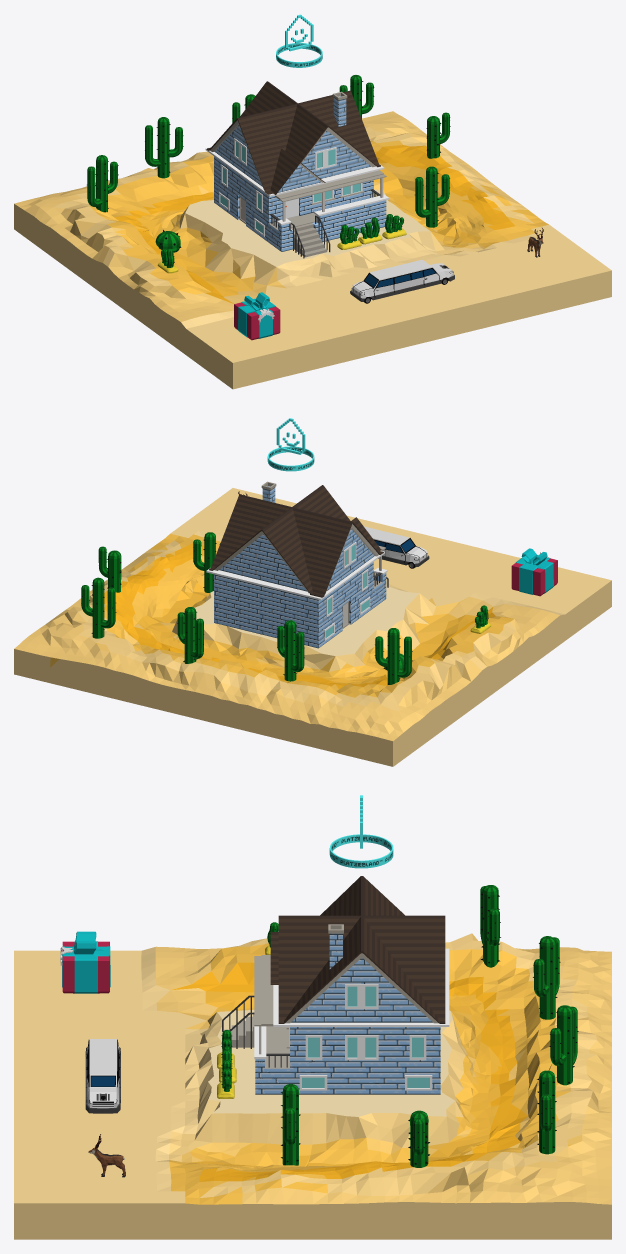
3 views of the same model, one above another, from view 1: azimuth 30°, elevation 25°; view 2: azimuth 150°, elevation 25°; view 3: azimuth 270°, elevation 25° (orthographic). The views are drawn at different scales.
Parts seen in each view (by area): view 1: Cube.001, Cube.547, VEHICLES_LIMOUSINE, OBJRANDOM_GIANT_PRESENT, Cylinder.044, Cylinder.037, Cylinder.045, TYPE_PREMIUM, Cylinder.038, Cylinder.042; view 2: Cube.001, Cube.547, OBJRANDOM_GIANT_PRESENT, Cylinder.042, VEHICLES_LIMOUSINE, Cylinder.045, Cylinder.044, Cylinder.043, TYPE_PREMIUM, Cylinder.037, Cylinder.038; view 3: Cube.001, Cube.547, OBJRANDOM_GIANT_PRESENT, VEHICLES_LIMOUSINE, Cylinder.044, Cylinder.043, Cylinder.045, Cylinder.042, Cylinder.037, TYPE_PREMIUM, Cylinder.038.
Part boxes in pixels (x1,y1,x2,y2): Cube.001: [14, 111, 611, 389]; Cube.547: [205, 81, 388, 258]; VEHICLES_LIMOUSINE: [350, 259, 454, 303]; OBJRANDOM_GIANT_PRESENT: [234, 292, 280, 340]; Cylinder.044: [145, 117, 183, 178]; Cylinder.037: [415, 166, 449, 227]; Cylinder.045: [87, 155, 118, 212]; TYPE_PREMIUM: [276, 14, 322, 67]; Cylinder.038: [426, 112, 450, 158]; Cylinder.042: [339, 75, 374, 118]; Cube.001: [14, 488, 611, 766]; Cube.547: [206, 481, 388, 648]; OBJRANDOM_GIANT_PRESENT: [511, 548, 557, 596]; Cylinder.042: [81, 577, 116, 638]; VEHICLES_LIMOUSINE: [364, 526, 429, 568]; Cylinder.045: [374, 628, 412, 684]; Cylinder.044: [277, 620, 304, 681]; Cylinder.043: [177, 607, 203, 663]; TYPE_PREMIUM: [267, 418, 314, 471]; Cylinder.037: [193, 532, 220, 592]; Cylinder.038: [98, 546, 121, 592]; Cube.001: [14, 933, 611, 1239]; Cube.547: [222, 876, 449, 1094]; OBJRANDOM_GIANT_PRESENT: [60, 931, 110, 993]; VEHICLES_LIMOUSINE: [85, 1039, 120, 1113]; Cylinder.044: [533, 936, 560, 1019]; Cylinder.043: [549, 1005, 578, 1085]; Cylinder.045: [480, 885, 500, 967]; Cylinder.042: [537, 1070, 556, 1154]; Cylinder.037: [281, 1084, 300, 1165]; TYPE_PREMIUM: [329, 795, 393, 868]; Cylinder.038: [408, 1110, 429, 1167].
Size of the model in its own units: 4002 by 2415 by 4001.
36 materials, 4 textured.
